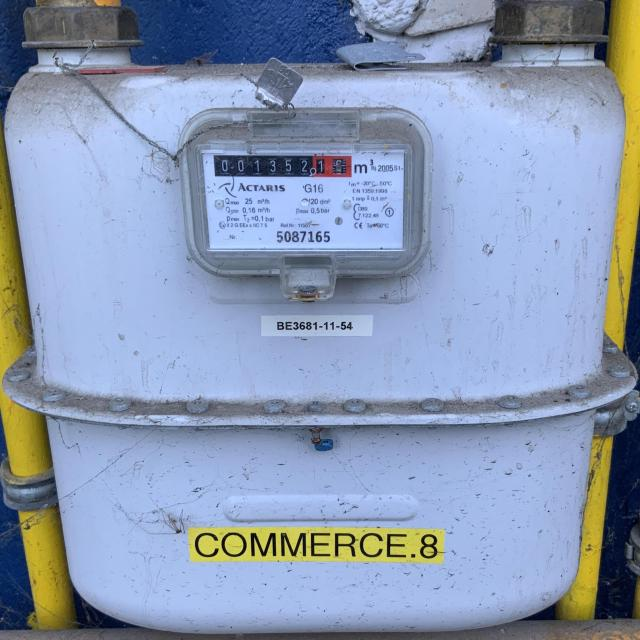gaz_meter: (198, 146, 406, 253)
indication: (215, 153, 353, 177)
